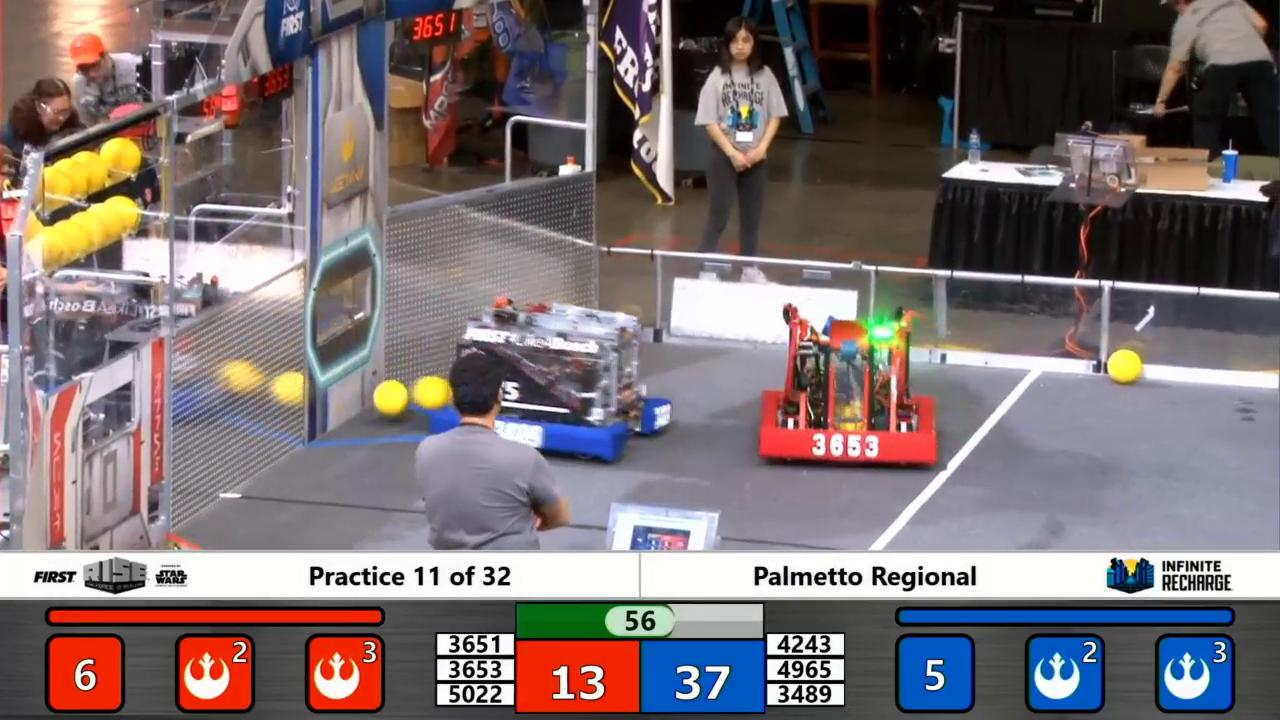robot: (433, 297, 675, 460), (758, 312, 929, 465)
